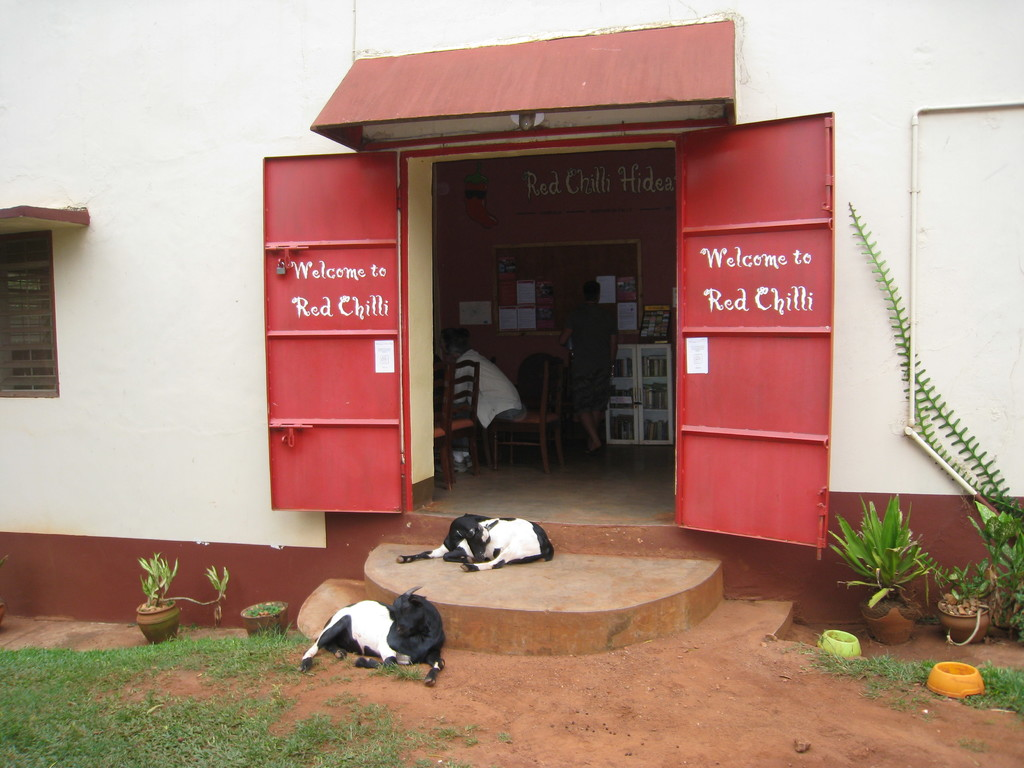Animal: (398, 507, 555, 574), (303, 589, 441, 662)
